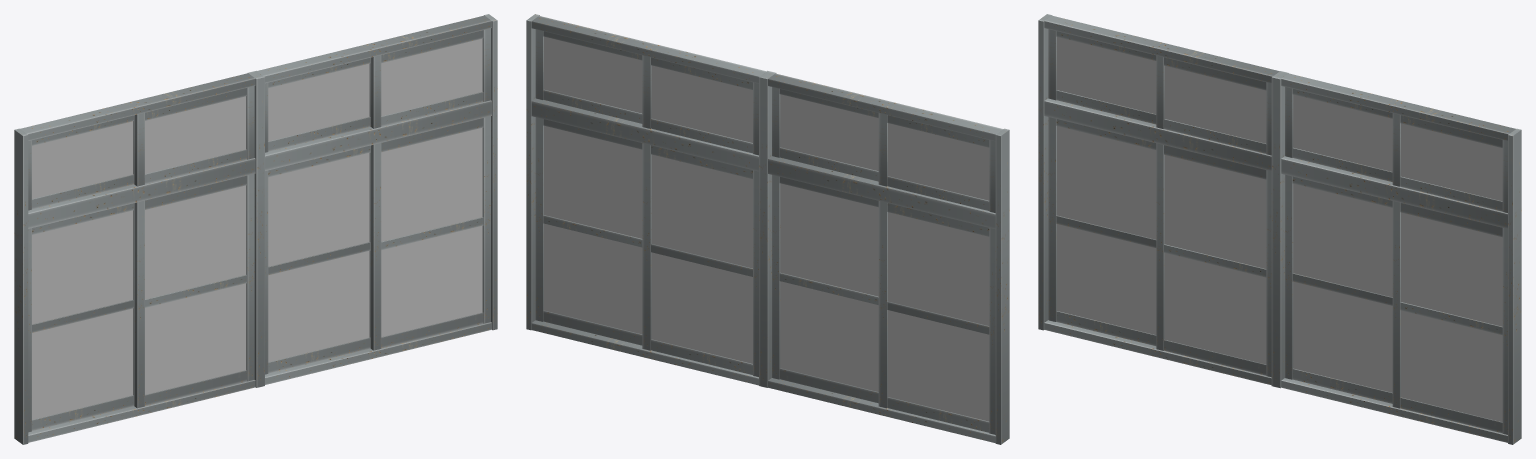
File: bil_window_b3_2b.fbx
3 views of the same model, side by side, from view 1: azimuth 30°, elevation 25°; view 2: azimuth 150°, elevation 25°; view 3: azimuth 330°, elevation 25° (orthographic).
Visible parts, largest first — view 1: bil_window_b3_2b; view 2: bil_window_b3_2b; view 3: bil_window_b3_2b.
Part boxes in pixels (x1=…): bil_window_b3_2b: x1=14, y1=14, x2=497, y2=444; bil_window_b3_2b: x1=526, y1=14, x2=1009, y2=444; bil_window_b3_2b: x1=1038, y1=14, x2=1521, y2=444.
Bounding box in the file's own units: 365 × 227 × 11.68.
